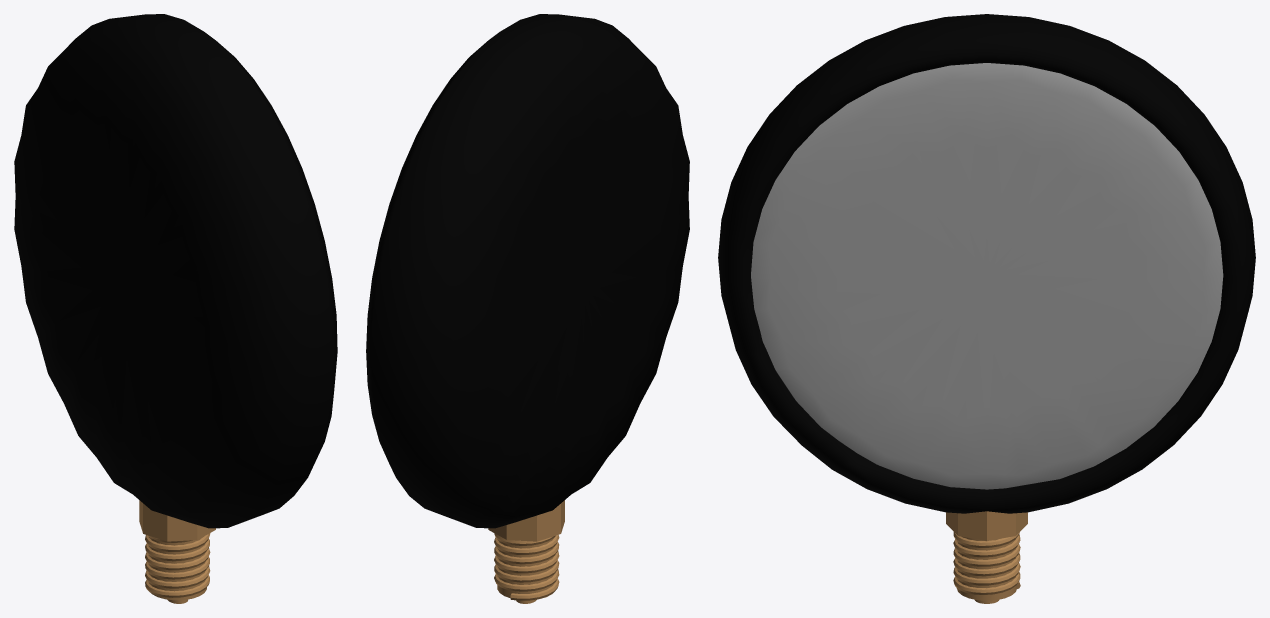
Rendered from Meter.fbx.
The picture shows the model from 3 angles, left to right: view 1: azimuth 30°, elevation 25°; view 2: azimuth 150°, elevation 25°; view 3: azimuth 270°, elevation 25°; orthographic projection. The views are drawn at different scales.
Visible parts, largest first — view 1: meter, SCHROEFJe; view 2: meter, SCHROEFJe; view 3: meter, SCHROEFJe.
Part boxes in pixels (left/top/right/bottom): meter: left=14, top=14, right=337, bottom=528; SCHROEFJe: left=139, top=500, right=215, bottom=603; meter: left=366, top=14, right=689, bottom=528; SCHROEFJe: left=488, top=500, right=564, bottom=603; meter: left=718, top=14, right=1255, bottom=513; SCHROEFJe: left=946, top=511, right=1027, bottom=603.
Size of the model in its own units: 0.416 by 2.35 by 1.98.
